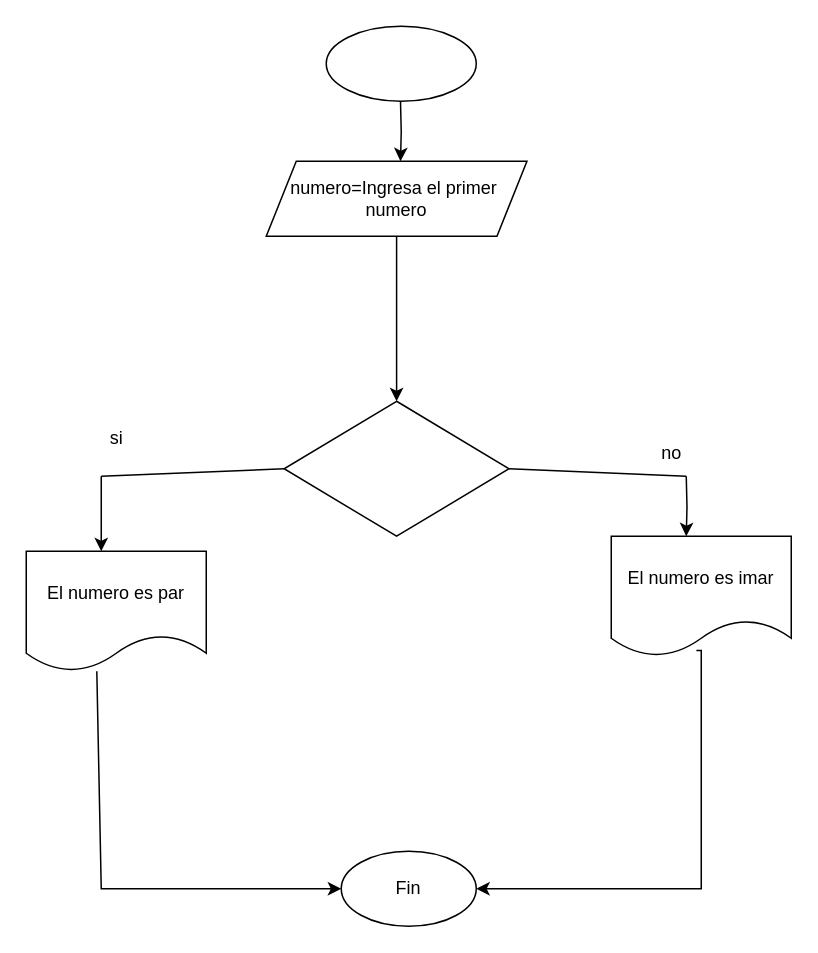
The diagram is 818 pixels wide and 953 high, and some of its shapes have lost their labels. Here are the shapes that lost their labels. From the top down, the centre of each, then its label:
At point 400,63: "INICIO".
At point 396,468: "numero % 2==0:".
